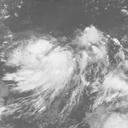cyclone: (10, 37, 74, 94)
